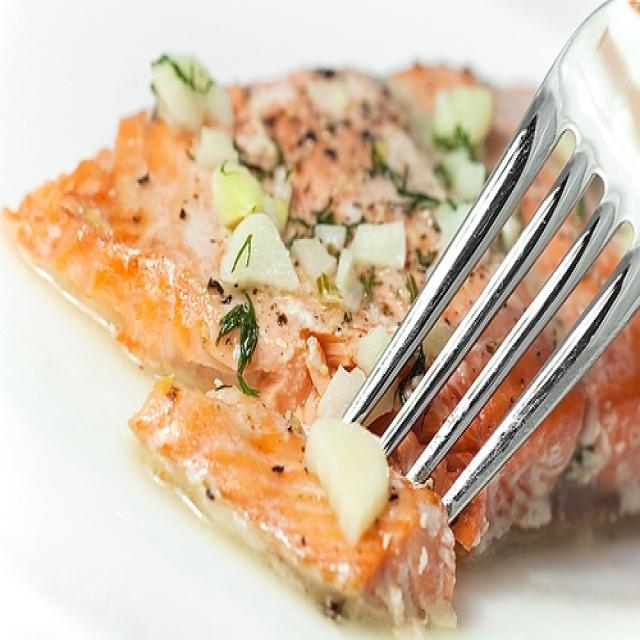熟制海鲜: (12, 18, 631, 626)
